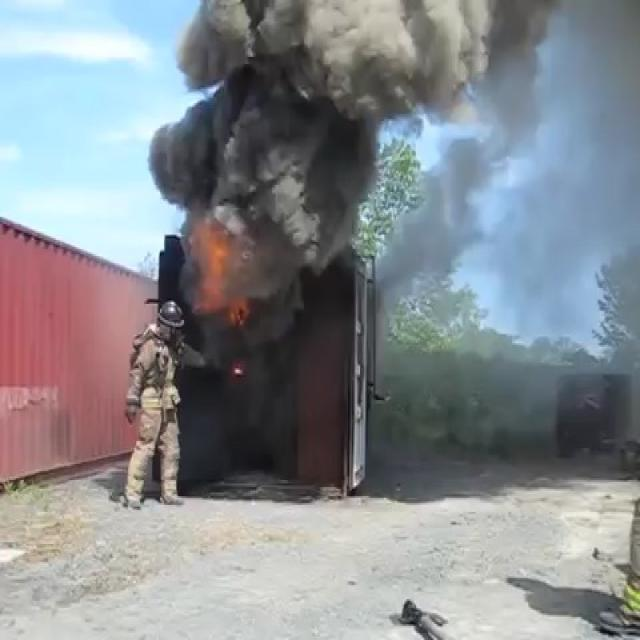Smoke: (187, 6, 420, 218)
